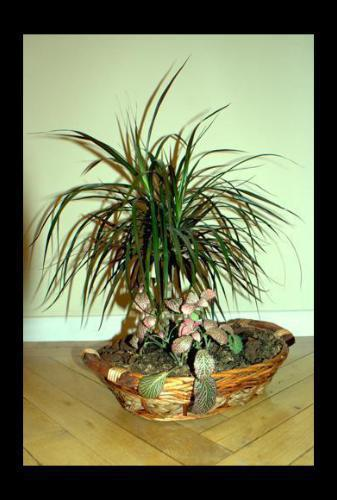Matera: (31, 64, 298, 424)
